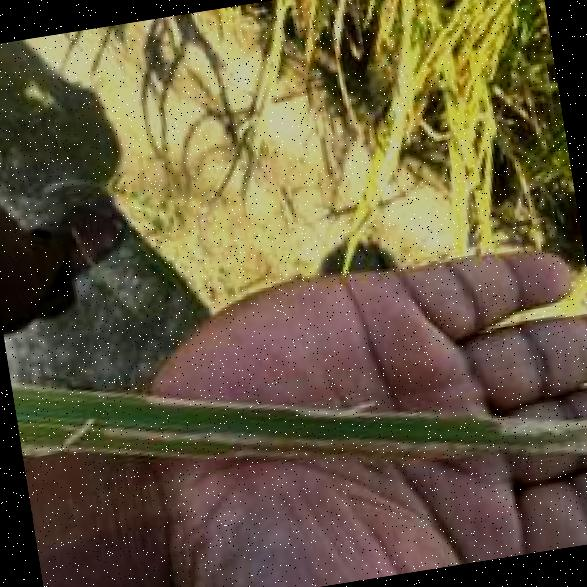Bacteria_Leaf_Blight: (23, 290, 587, 551)
